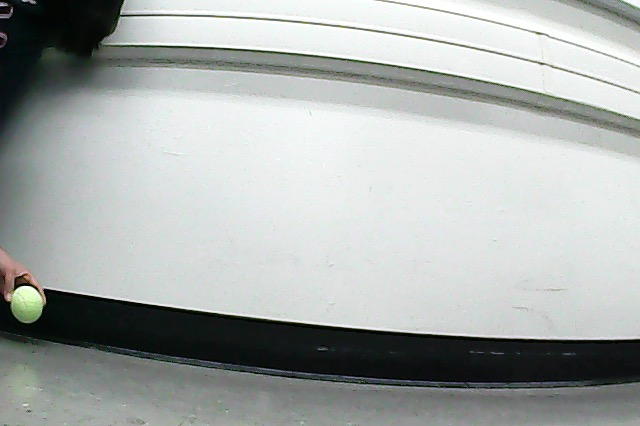ball: (11, 286, 44, 324)
